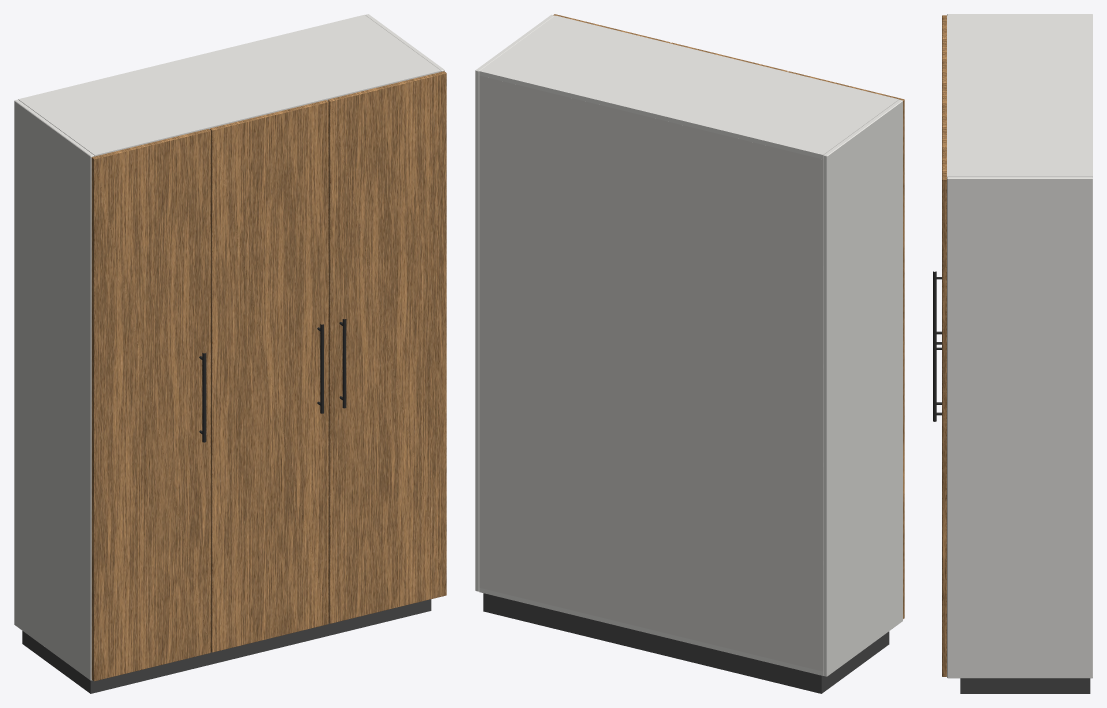
Rendered from wardrobe_150.glb.
3 renders of one model, left to right at view 1: azimuth 30°, elevation 25°; view 2: azimuth 150°, elevation 25°; view 3: azimuth 270°, elevation 25°, orthographic. The views are drawn at different scales.
Visible parts, largest first — view 1: hoja_0, hoja_2, hoja_1, lateral, techo, zocalo; view 2: fondo, lateral, techo, zocalo, lateral.001, base, hoja_0; view 3: lateral.001, techo, hoja_2, zocalo, tirador_2, lateral, hoja_0, hoja_1.
Part boxes in pixels (left/top/right/bottom): hoja_0: left=91, top=129, right=210, bottom=681; hoja_2: left=327, top=71, right=446, bottom=623; hoja_1: left=209, top=100, right=328, bottom=652; lateral: left=14, top=99, right=94, bottom=680; techo: left=18, top=14, right=440, bottom=156; zocalo: left=22, top=599, right=431, bottom=693; fondo: left=479, top=75, right=823, bottom=671; lateral: left=823, top=99, right=902, bottom=676; techo: left=479, top=15, right=898, bottom=159; zocalo: left=483, top=593, right=889, bottom=693; lateral.001: left=475, top=14, right=554, bottom=591; base: left=479, top=588, right=823, bottom=675; hoja_0: left=788, top=71, right=904, bottom=618; lateral.001: left=947, top=177, right=1092, bottom=678; techo: left=947, top=15, right=1092, bottom=176; hoja_2: left=942, top=125, right=946, bottom=676; zocalo: left=960, top=678, right=1090, bottom=693; tirador_2: left=933, top=336, right=936, bottom=421; lateral: left=947, top=14, right=1092, bottom=15; hoja_0: left=942, top=15, right=946, bottom=69; hoja_1: left=942, top=70, right=946, bottom=124.
Bounding box in the file's own units: 1.5 × 2.2 × 0.6151.
Materials: 6 (1 with a texture image).
